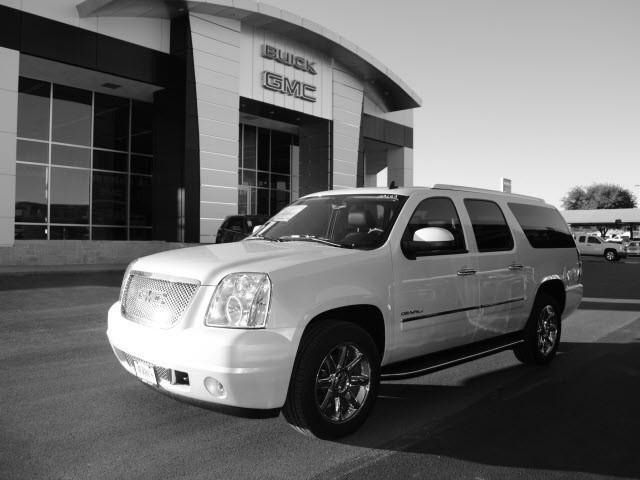car: (103, 180, 587, 434)
